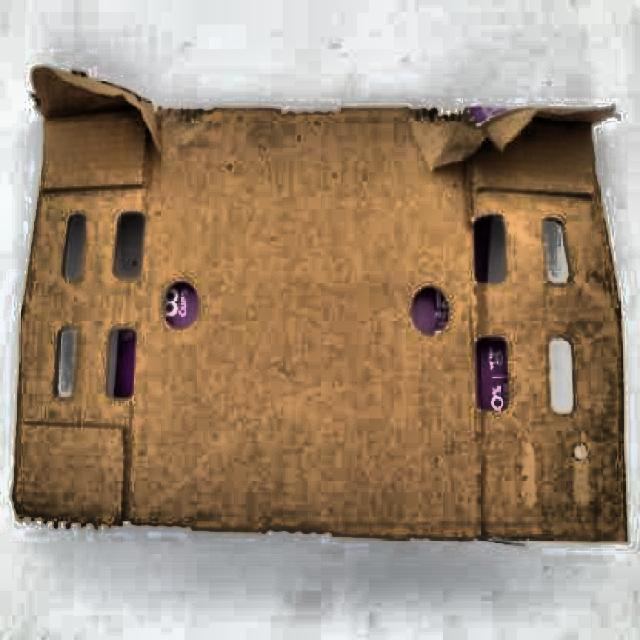Cardbox: (0, 38, 640, 562)
